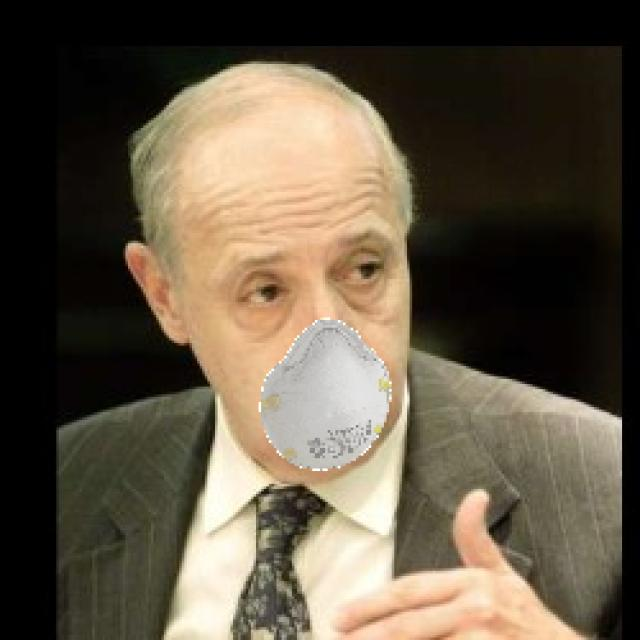mask: (229, 323, 422, 489)
